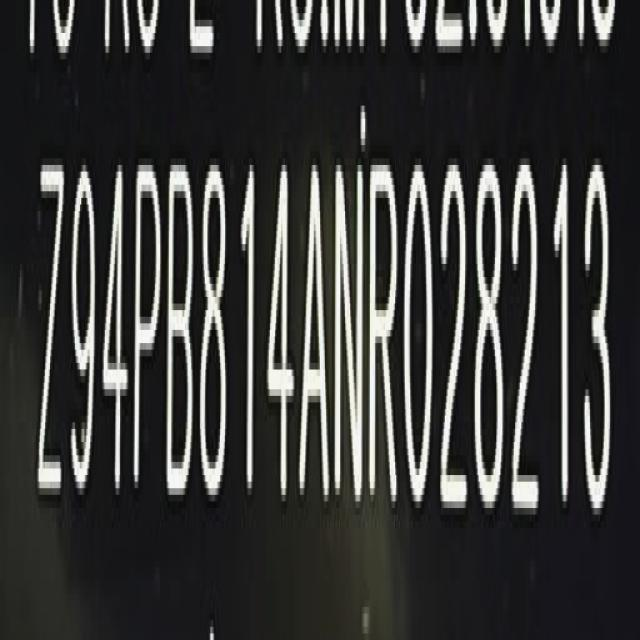0: (405, 164, 435, 518)
1: (552, 160, 575, 520), (237, 156, 259, 508)
2: (510, 157, 544, 524), (438, 157, 471, 520)
3: (585, 165, 618, 518)
4: (268, 154, 296, 506), (104, 157, 130, 510)
8: (473, 159, 505, 522), (200, 157, 230, 510)
9: (70, 167, 97, 512)
A: (302, 154, 332, 506)
B: (165, 153, 196, 512)
N: (335, 159, 366, 509)
P: (134, 158, 164, 512)
R: (368, 160, 402, 512)
Z: (39, 165, 67, 516)
